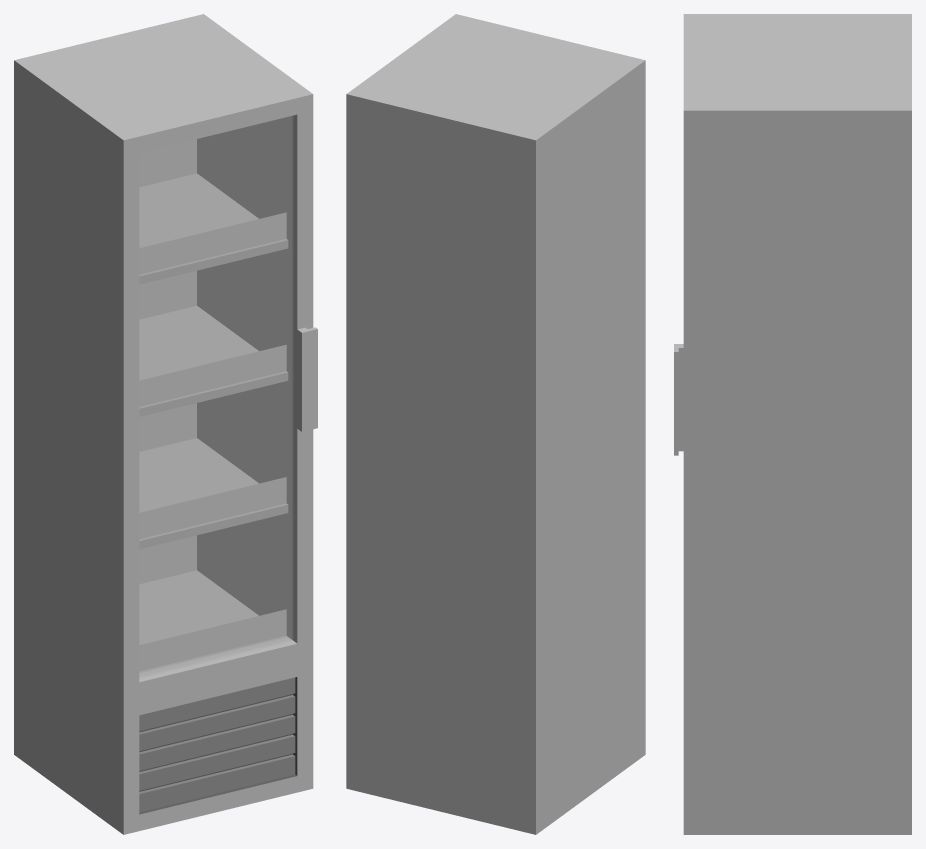
Rendered from Fridge01.fbx.
The picture shows the model from 3 angles, left to right: view 1: azimuth 30°, elevation 25°; view 2: azimuth 150°, elevation 25°; view 3: azimuth 270°, elevation 25°; orthographic projection. The views are drawn at different scales.
Parts seen in each view (by area): view 1: Fridge, Door; view 2: Fridge, Door; view 3: Fridge, Door.
Part boxes in pixels (x1,y1,x2,y2): Fridge: [14, 14, 313, 834]; Door: [114, 87, 317, 702]; Fridge: [346, 21, 645, 834]; Door: [447, 14, 645, 628]; Fridge: [683, 14, 911, 834]; Door: [674, 14, 702, 696].
Bounding box in the file's own units: 0.6 × 2.1 × 0.625.
